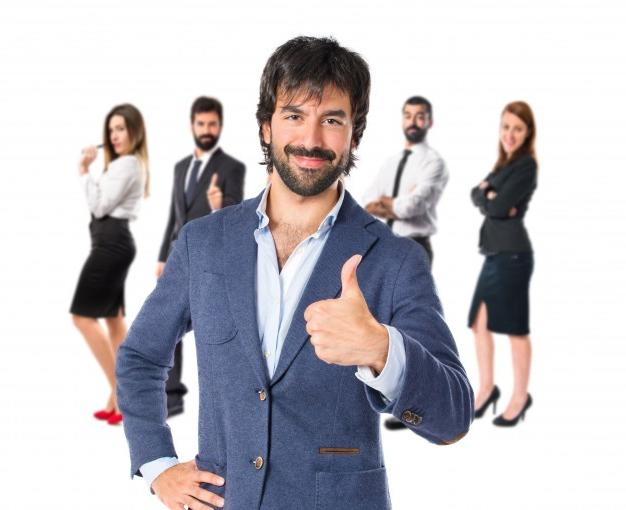thumbsup: (303, 254, 365, 366)
